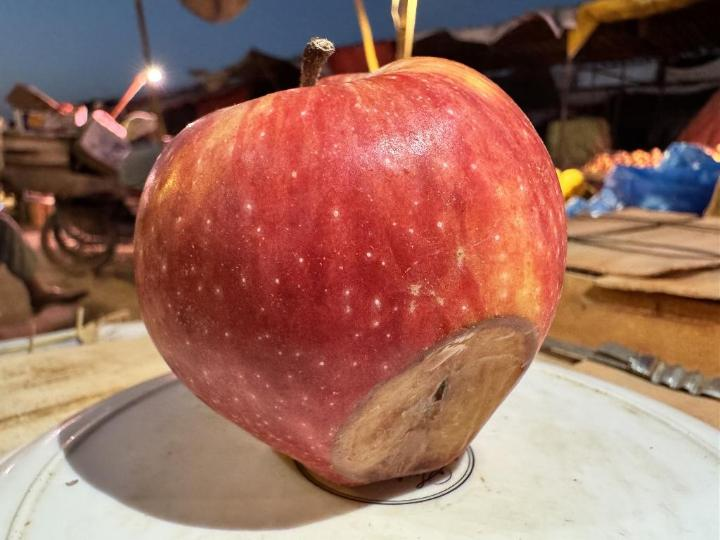apple: (135, 37, 566, 484)
rot_mold_decay: (331, 317, 537, 484)
